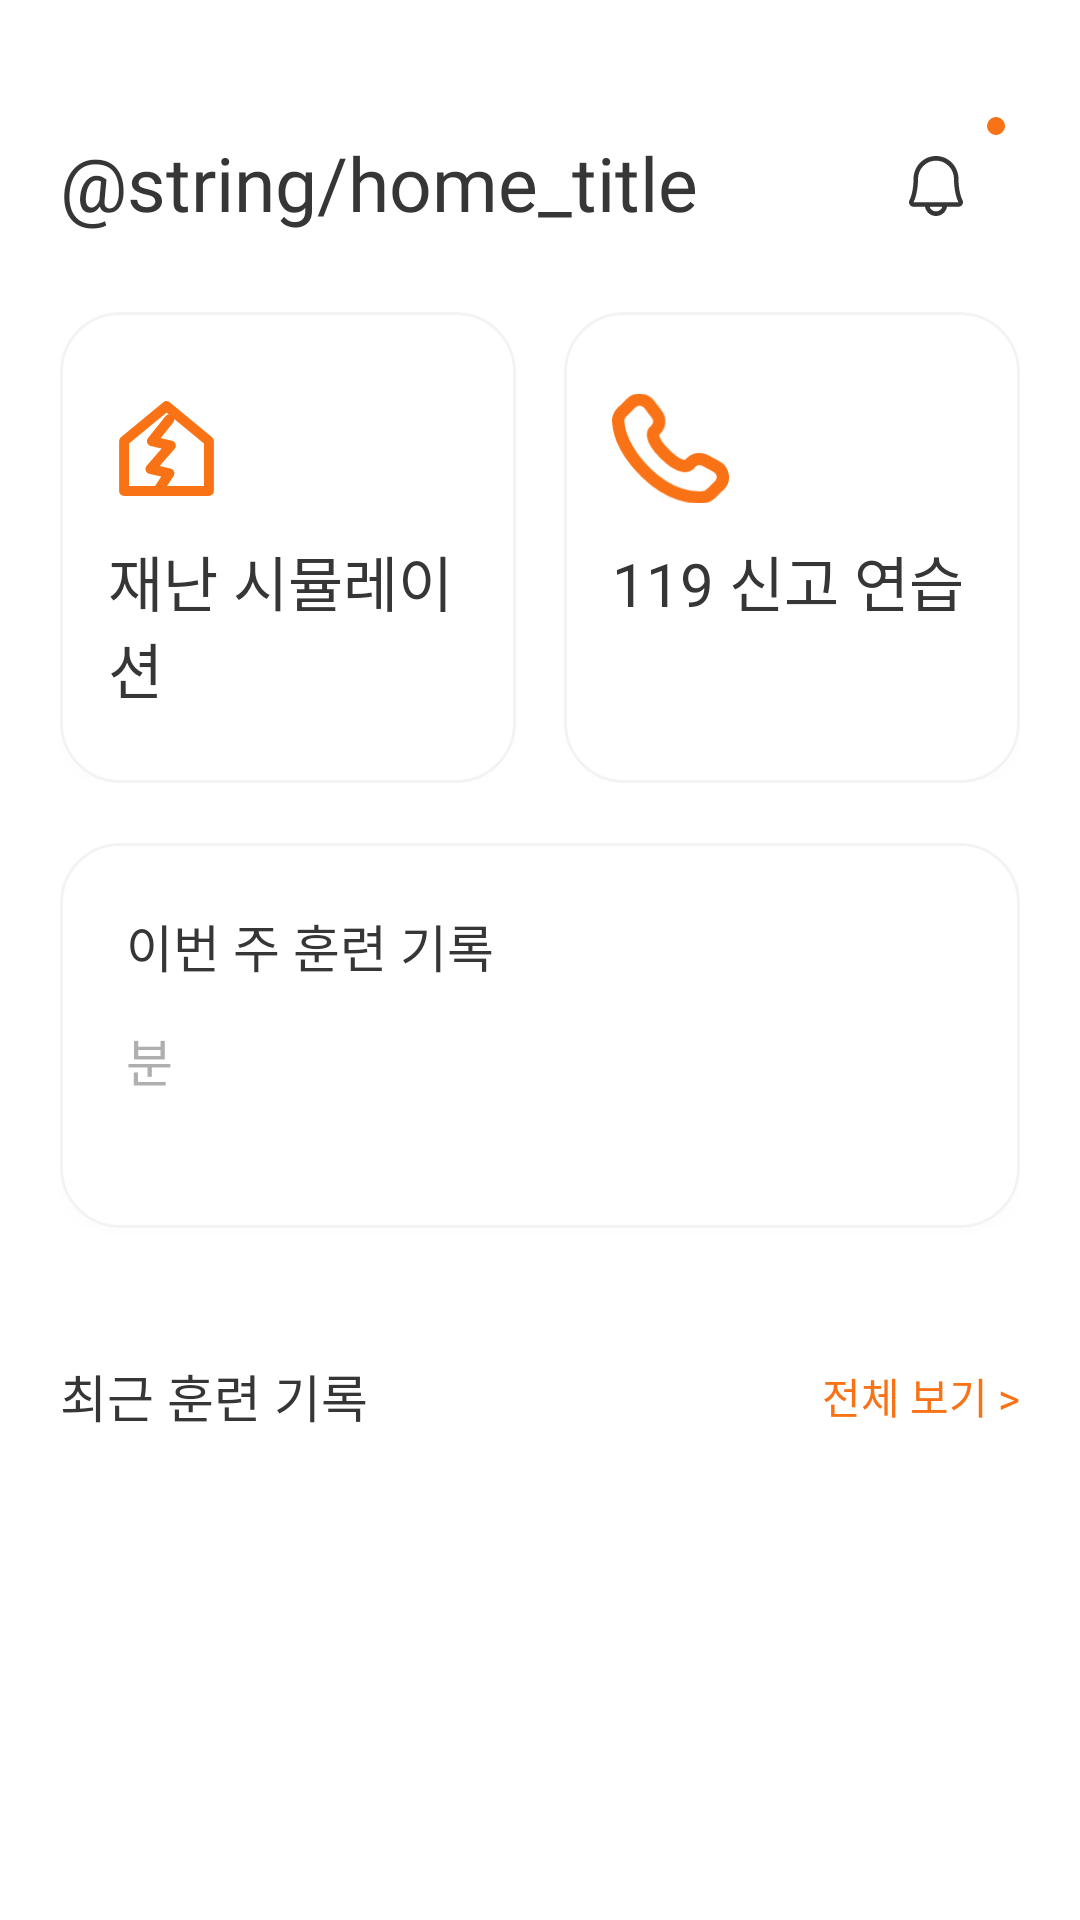

Icons on this 1080×1920 Android screen, each with the point to tap as point (x, y):
bell: point (936, 186)
phone: point (670, 448)
simulation house: point (166, 448)
